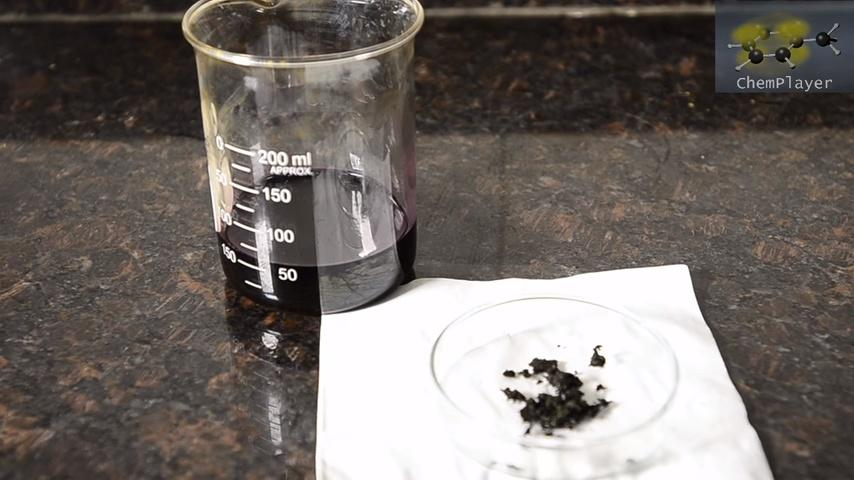Beaker: (177, 4, 424, 312)
